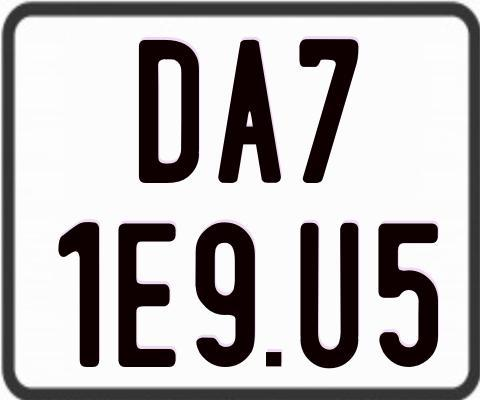1: (58, 221, 100, 372)
5: (377, 220, 439, 364)
7: (299, 38, 364, 185)
9: (193, 222, 256, 368)
A: (217, 40, 281, 189)
D: (137, 37, 200, 181)
E: (115, 221, 178, 365)
U: (297, 223, 356, 371)
